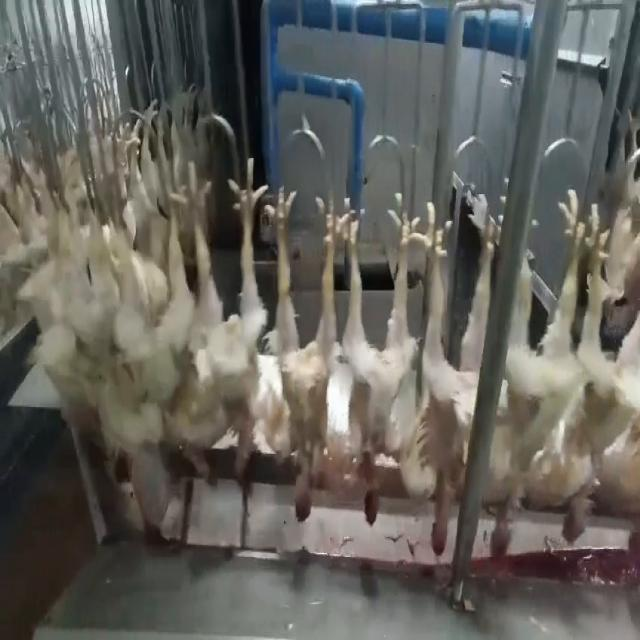chicken: (487, 192, 578, 562), (408, 194, 496, 556), (176, 151, 266, 486), (332, 185, 416, 530), (558, 198, 640, 543), (266, 186, 343, 526), (108, 177, 193, 483)
